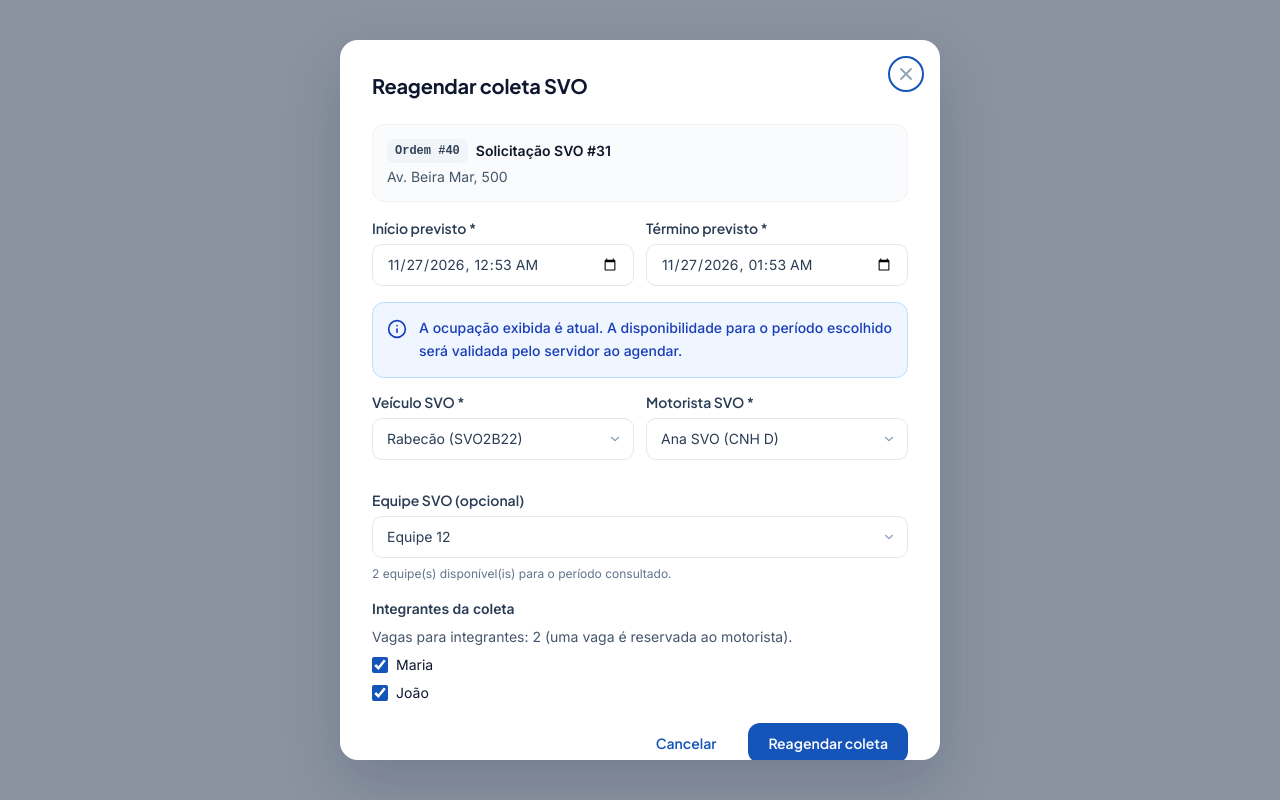
it: ModalAgendarColetaSvo (SCRUM-172) › com o agendamento temporal (SCRUM-182) › seleciona a nova equipe sem herdar integrantes e restaura a composição ao voltar
Check: the checkbox labelled "Maria" is checked, box [372, 656, 388, 672]
Select "Equipe 13" in the dropdown labelled "Equipe SVO (opcional)": (640, 536) [372, 516, 908, 558]
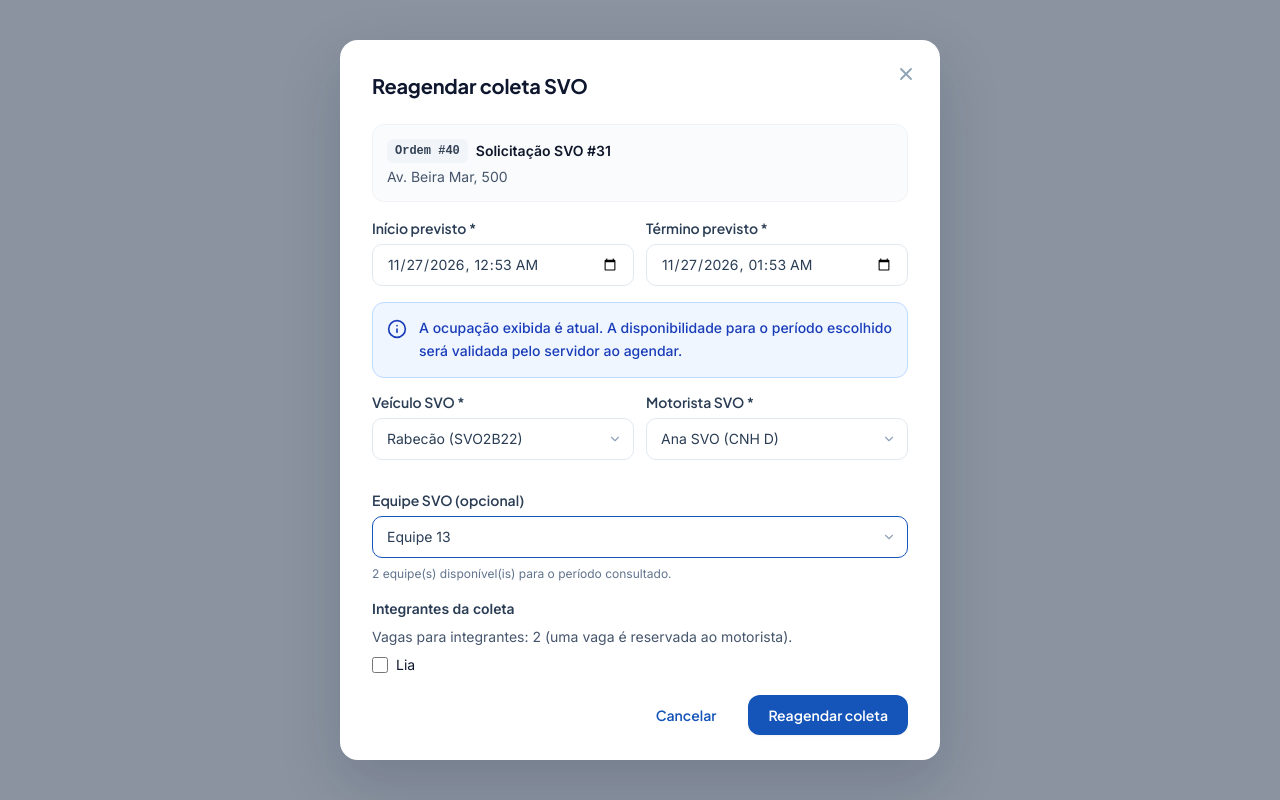
Check: the checkbox labelled "Lia" is enabled, box [372, 656, 388, 672]
Check: the checkbox labelled "Lia" is not checked, box [372, 656, 388, 672]
Check: the text "Maria" is gone
Click the button "Reagendar coleta": (828, 714) [748, 694, 908, 734]
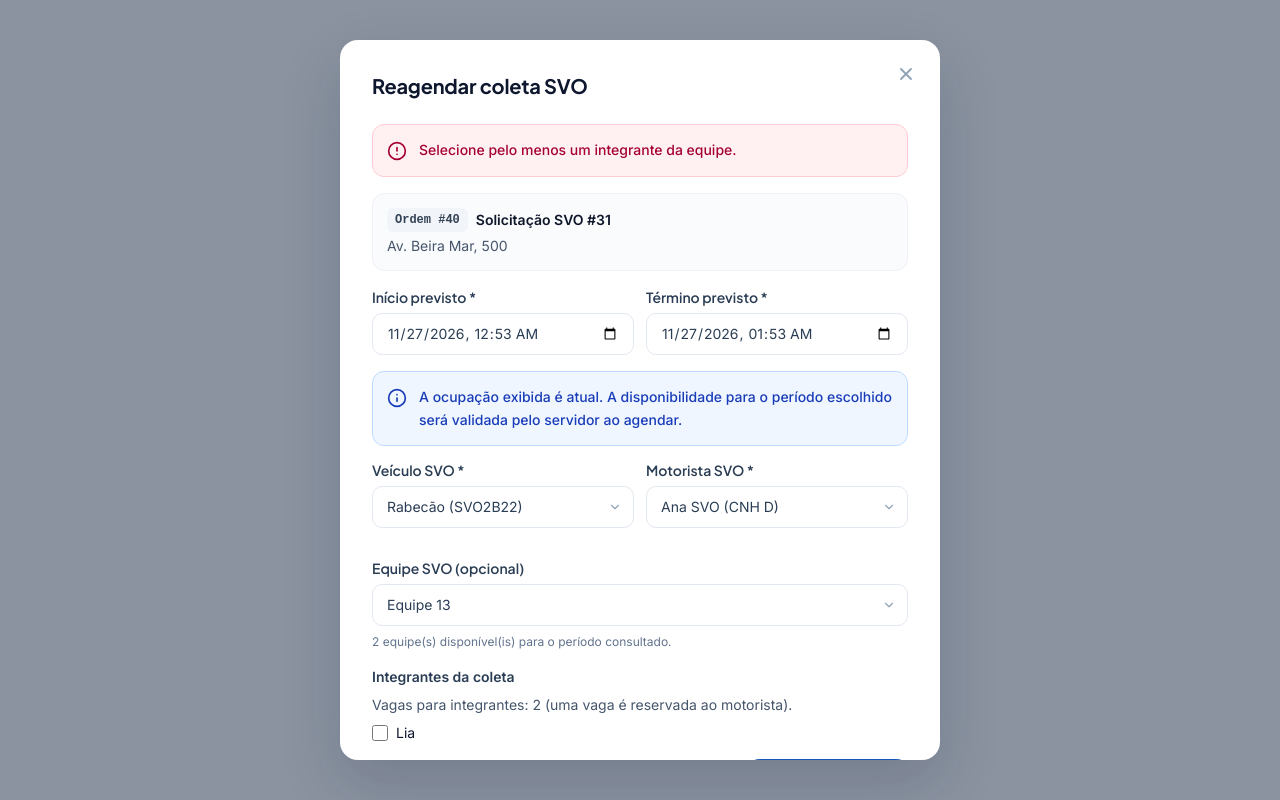
Click the checkbox labelled "Lia": (380, 733) [372, 725, 388, 741]
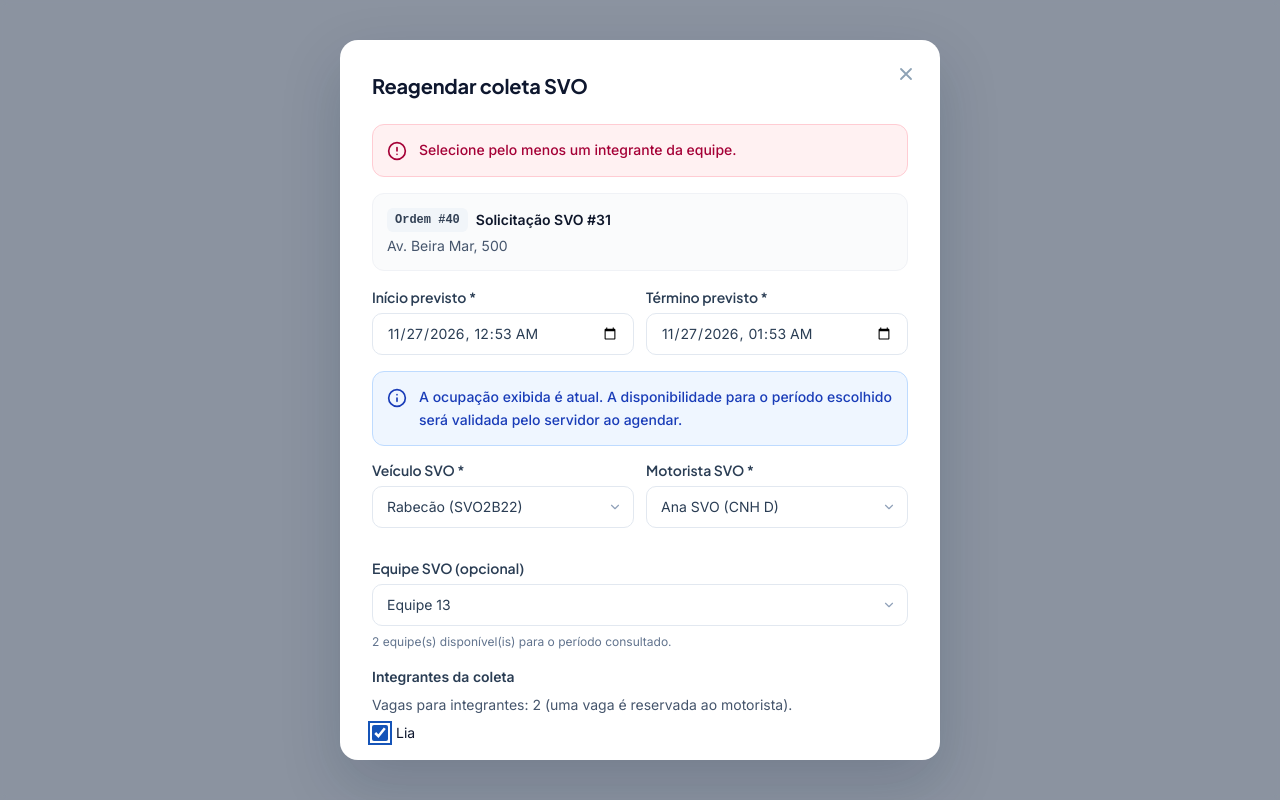
Select "Equipe 12" in the dropdown labelled "Equipe SVO (opcional)": (640, 605) [372, 584, 908, 626]
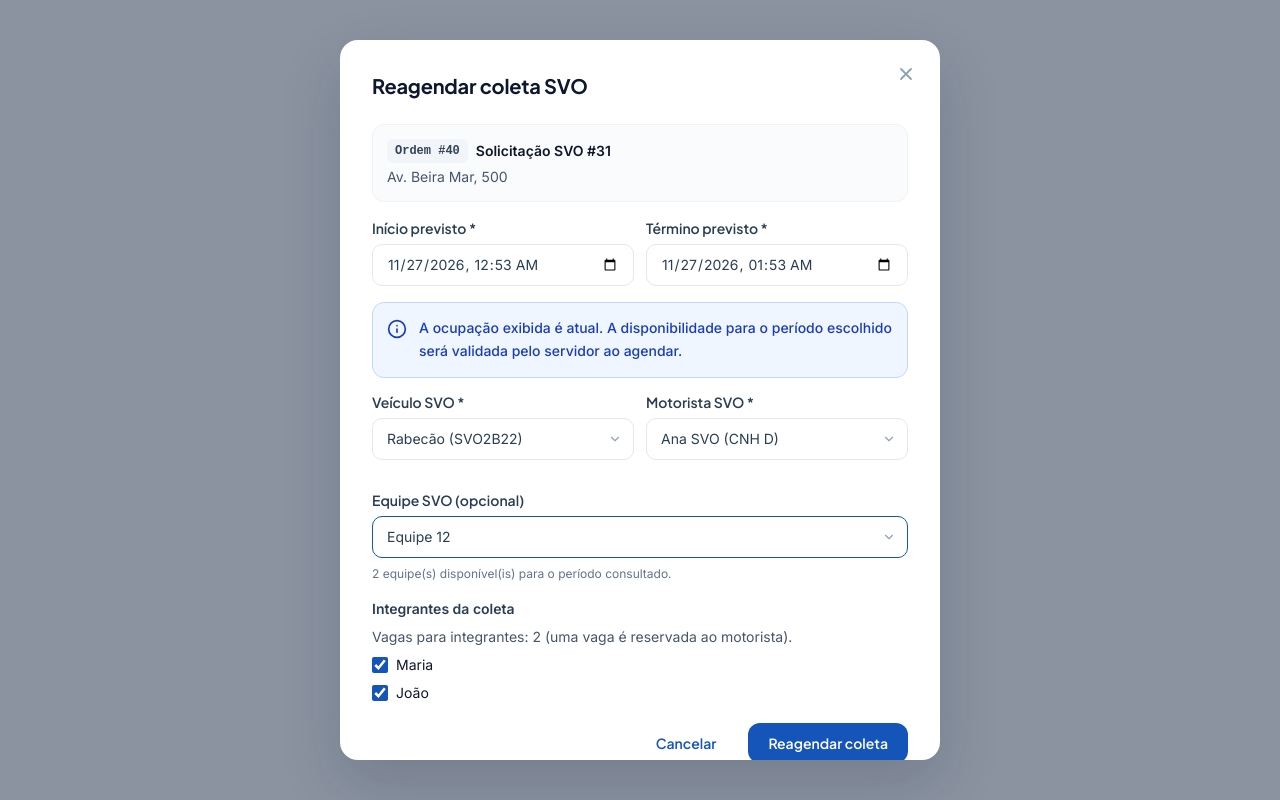
Check: the checkbox labelled "Maria" is checked, box [372, 656, 388, 672]
Check: the checkbox labelled "João" is checked, box [372, 684, 388, 700]
Check: the text "Lia" is gone
